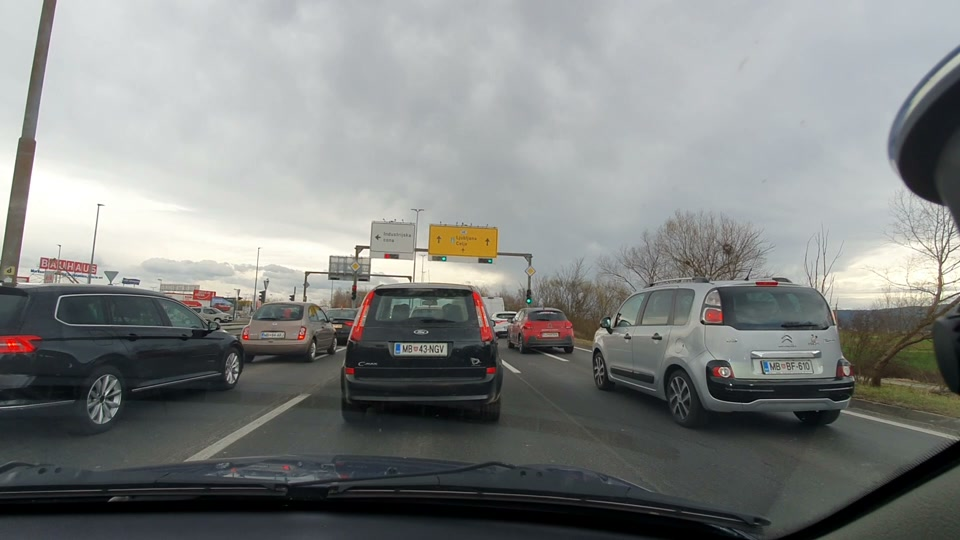vehicle_ign: (585, 264, 862, 439), (0, 266, 257, 425), (344, 279, 506, 430), (231, 295, 340, 364), (508, 300, 577, 357)
